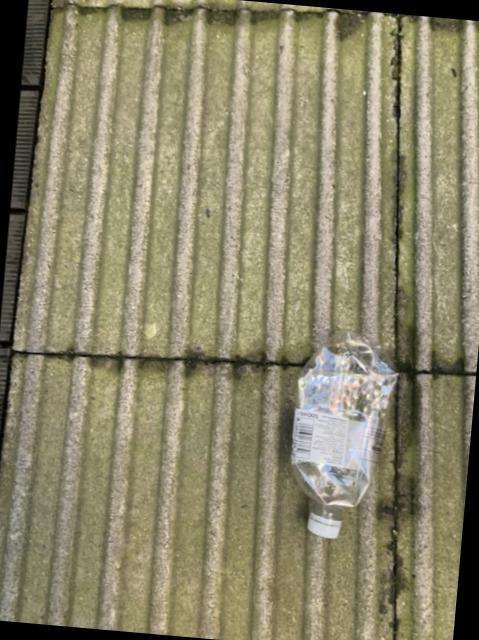plastic: (289, 328, 395, 536)
